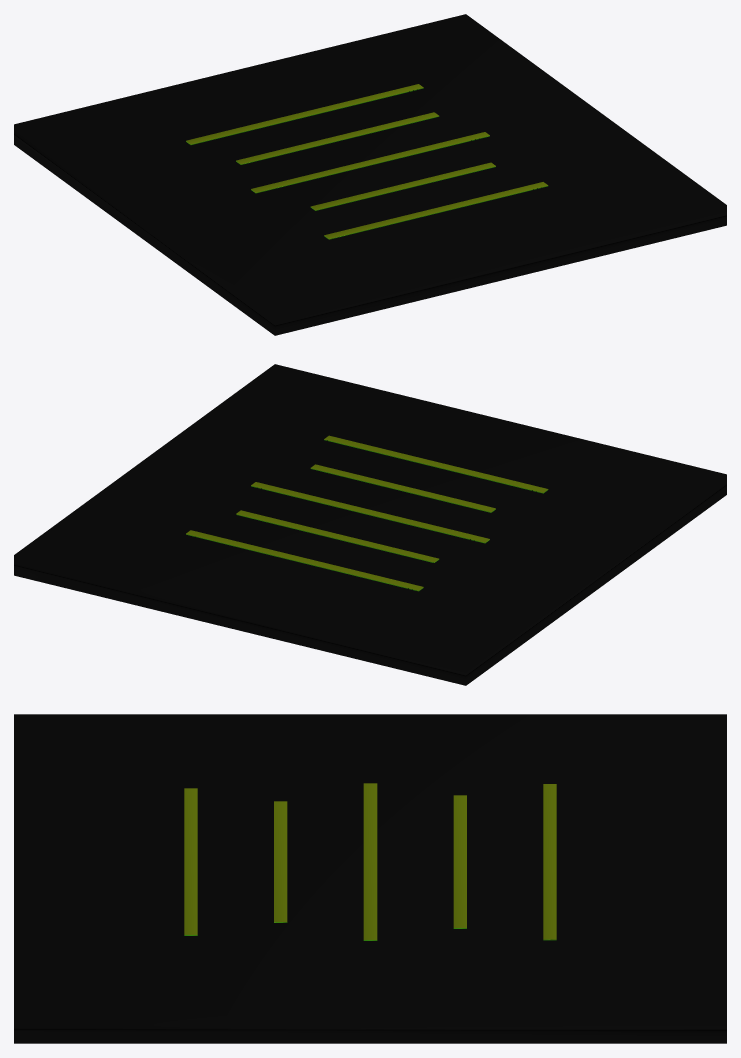
The model's file is floor_plate.glb.
3 renders of one model, top to bottom at view 1: azimuth 30°, elevation 25°; view 2: azimuth 150°, elevation 25°; view 3: azimuth 270°, elevation 25°, orthographic. The views are drawn at different scales.
Visible parts, largest first — view 1: floor_plate; view 2: floor_plate; view 3: floor_plate.
Boxes of the visible parts, bbox=[...] form: floor_plate: bbox=[14, 14, 726, 335]; floor_plate: bbox=[14, 364, 726, 685]; floor_plate: bbox=[14, 714, 726, 1043].
Size of what is drawn, in the model's own units: 1.19 by 0.058 by 1.19.
